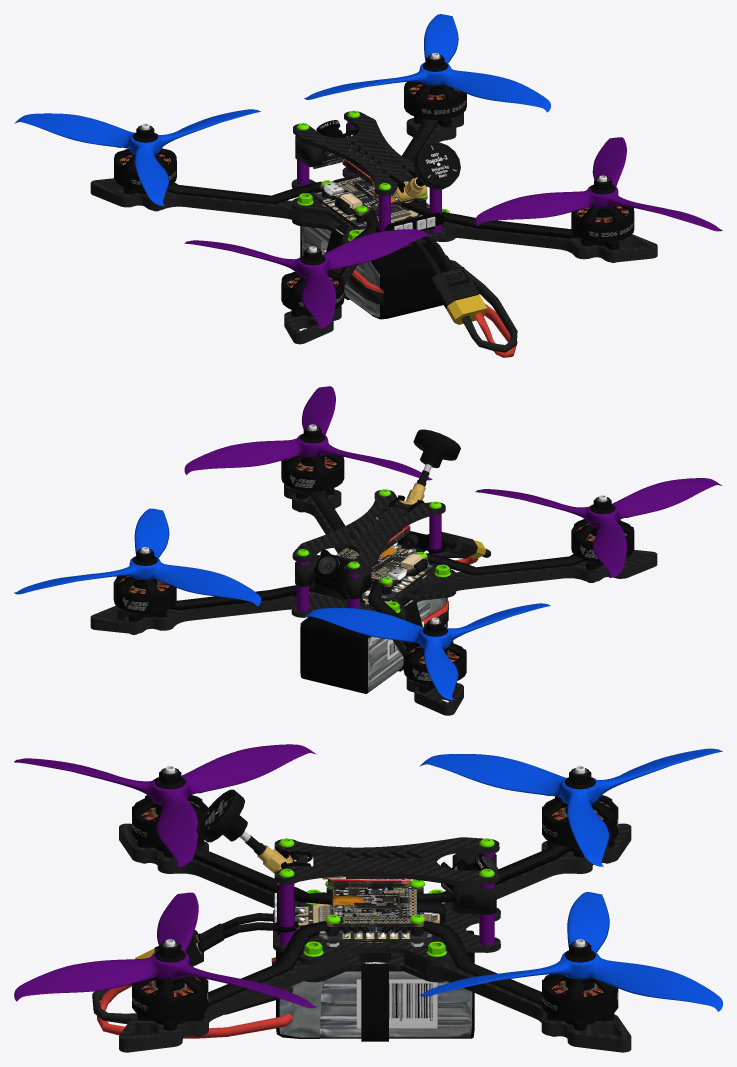
File: quad_x.gltf
The picture shows the model from 3 angles, top to bottom: view 1: azimuth 30°, elevation 25°; view 2: azimuth 150°, elevation 25°; view 3: azimuth 270°, elevation 25°; orthographic projection. The views are drawn at different scales.
Visible parts, largest first — view 1: FenrirX5MergedMain, Prop4, Prop1, Prop2, Prop3, Rotor3, Rotor2, Rotor1, Rotor4, FenrirX5MergedMainStandoffs, FenrirX5MergedAluScrews; view 2: FenrirX5MergedMain, Prop4, Prop1, Prop2, Prop3, Rotor3, Rotor2, Rotor1, Rotor4, FenrirX5MergedMainStandoffs, FenrirX5MergedAluScrews; view 3: FenrirX5MergedMain, Prop4, Prop1, Prop2, Prop3, Rotor3, Rotor2, Rotor1, Rotor4, FenrirX5MergedAluScrews, FenrirX5MergedMainStandoffs.
Boxes of the visible parts, bbox=[...] form: FenrirX5MergedMain: bbox=[90, 83, 657, 357]; Prop4: bbox=[184, 229, 431, 328]; Prop1: bbox=[14, 109, 260, 205]; Prop2: bbox=[304, 14, 550, 112]; Prop3: bbox=[475, 137, 722, 231]; Rotor3: bbox=[571, 175, 634, 242]; Rotor2: bbox=[404, 53, 466, 119]; Rotor1: bbox=[114, 123, 176, 190]; Rotor4: bbox=[281, 246, 344, 313]; FenrirX5MergedMainStandoffs: bbox=[297, 122, 441, 232]; FenrirX5MergedAluScrews: bbox=[296, 110, 449, 241]; FenrirX5MergedMain: bbox=[90, 429, 657, 715]; Prop4: bbox=[475, 478, 721, 577]; Prop1: bbox=[304, 603, 550, 700]; Prop2: bbox=[14, 508, 260, 606]; Prop3: bbox=[184, 386, 432, 480]; Rotor3: bbox=[281, 424, 344, 491]; Rotor2: bbox=[113, 547, 176, 613]; Rotor1: bbox=[403, 617, 466, 684]; Rotor4: bbox=[571, 495, 634, 562]; FenrirX5MergedMainStandoffs: bbox=[296, 514, 441, 611]; FenrirX5MergedAluScrews: bbox=[296, 489, 450, 612]; FenrirX5MergedMain: bbox=[92, 789, 631, 1052]; Prop4: bbox=[14, 744, 316, 867]; Prop1: bbox=[419, 748, 722, 866]; Prop2: bbox=[420, 892, 722, 1011]; Prop3: bbox=[14, 892, 316, 1008]; Rotor3: bbox=[132, 939, 208, 1021]; Rotor2: bbox=[542, 939, 618, 1021]; Rotor1: bbox=[542, 766, 618, 847]; Rotor4: bbox=[132, 766, 208, 847]; FenrirX5MergedAluScrews: bbox=[279, 838, 494, 956]; FenrirX5MergedMainStandoffs: bbox=[279, 853, 494, 945].
Bounding box in the file's own units: 7.11 × 2.89 × 8.1.
7 materials, 3 textured.
